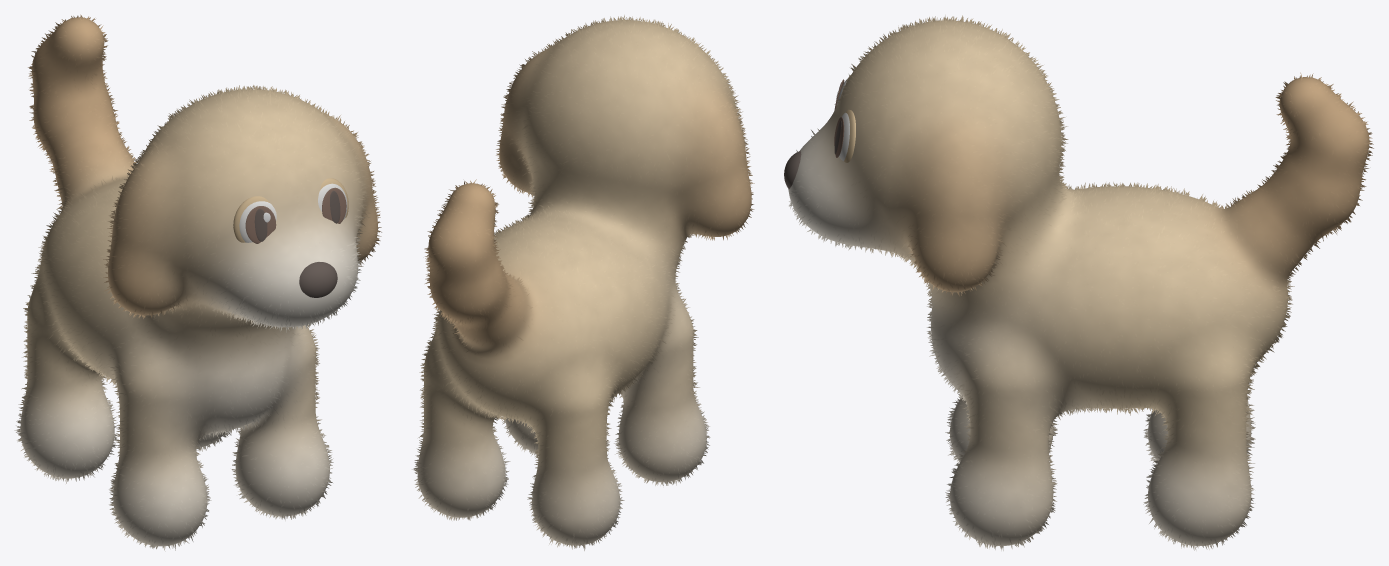
Rendered from dog.glb.
3 renders of one model, left to right at view 1: azimuth 30°, elevation 25°; view 2: azimuth 150°, elevation 25°; view 3: azimuth 270°, elevation 25°, orthographic. The views are drawn at different scales.
Parts seen in each view (by area): view 1: geometry_0; view 2: geometry_0; view 3: geometry_0.
Boxes of the visible parts, bbox=[...] form: geometry_0: bbox=[14, 14, 381, 551]; geometry_0: bbox=[412, 15, 754, 550]; geometry_0: bbox=[784, 15, 1373, 550].
Bounding box in the file's own units: 1.28 × 2.07 × 2.27.
